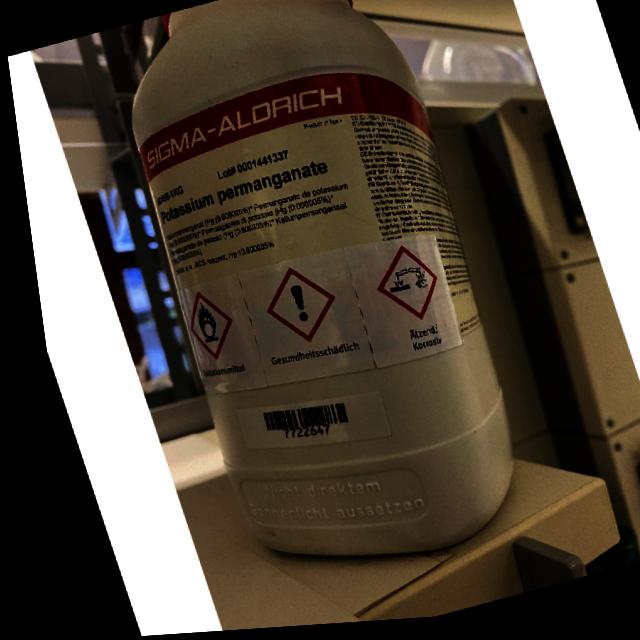corrosive: (376, 270, 422, 301)
health-ozone layer hazard: (279, 287, 305, 328)
oxidising: (183, 304, 213, 348)
